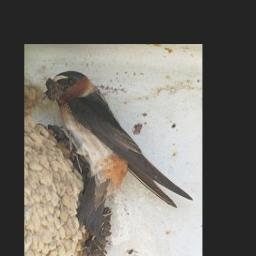Swallow: (46, 70, 195, 210)
